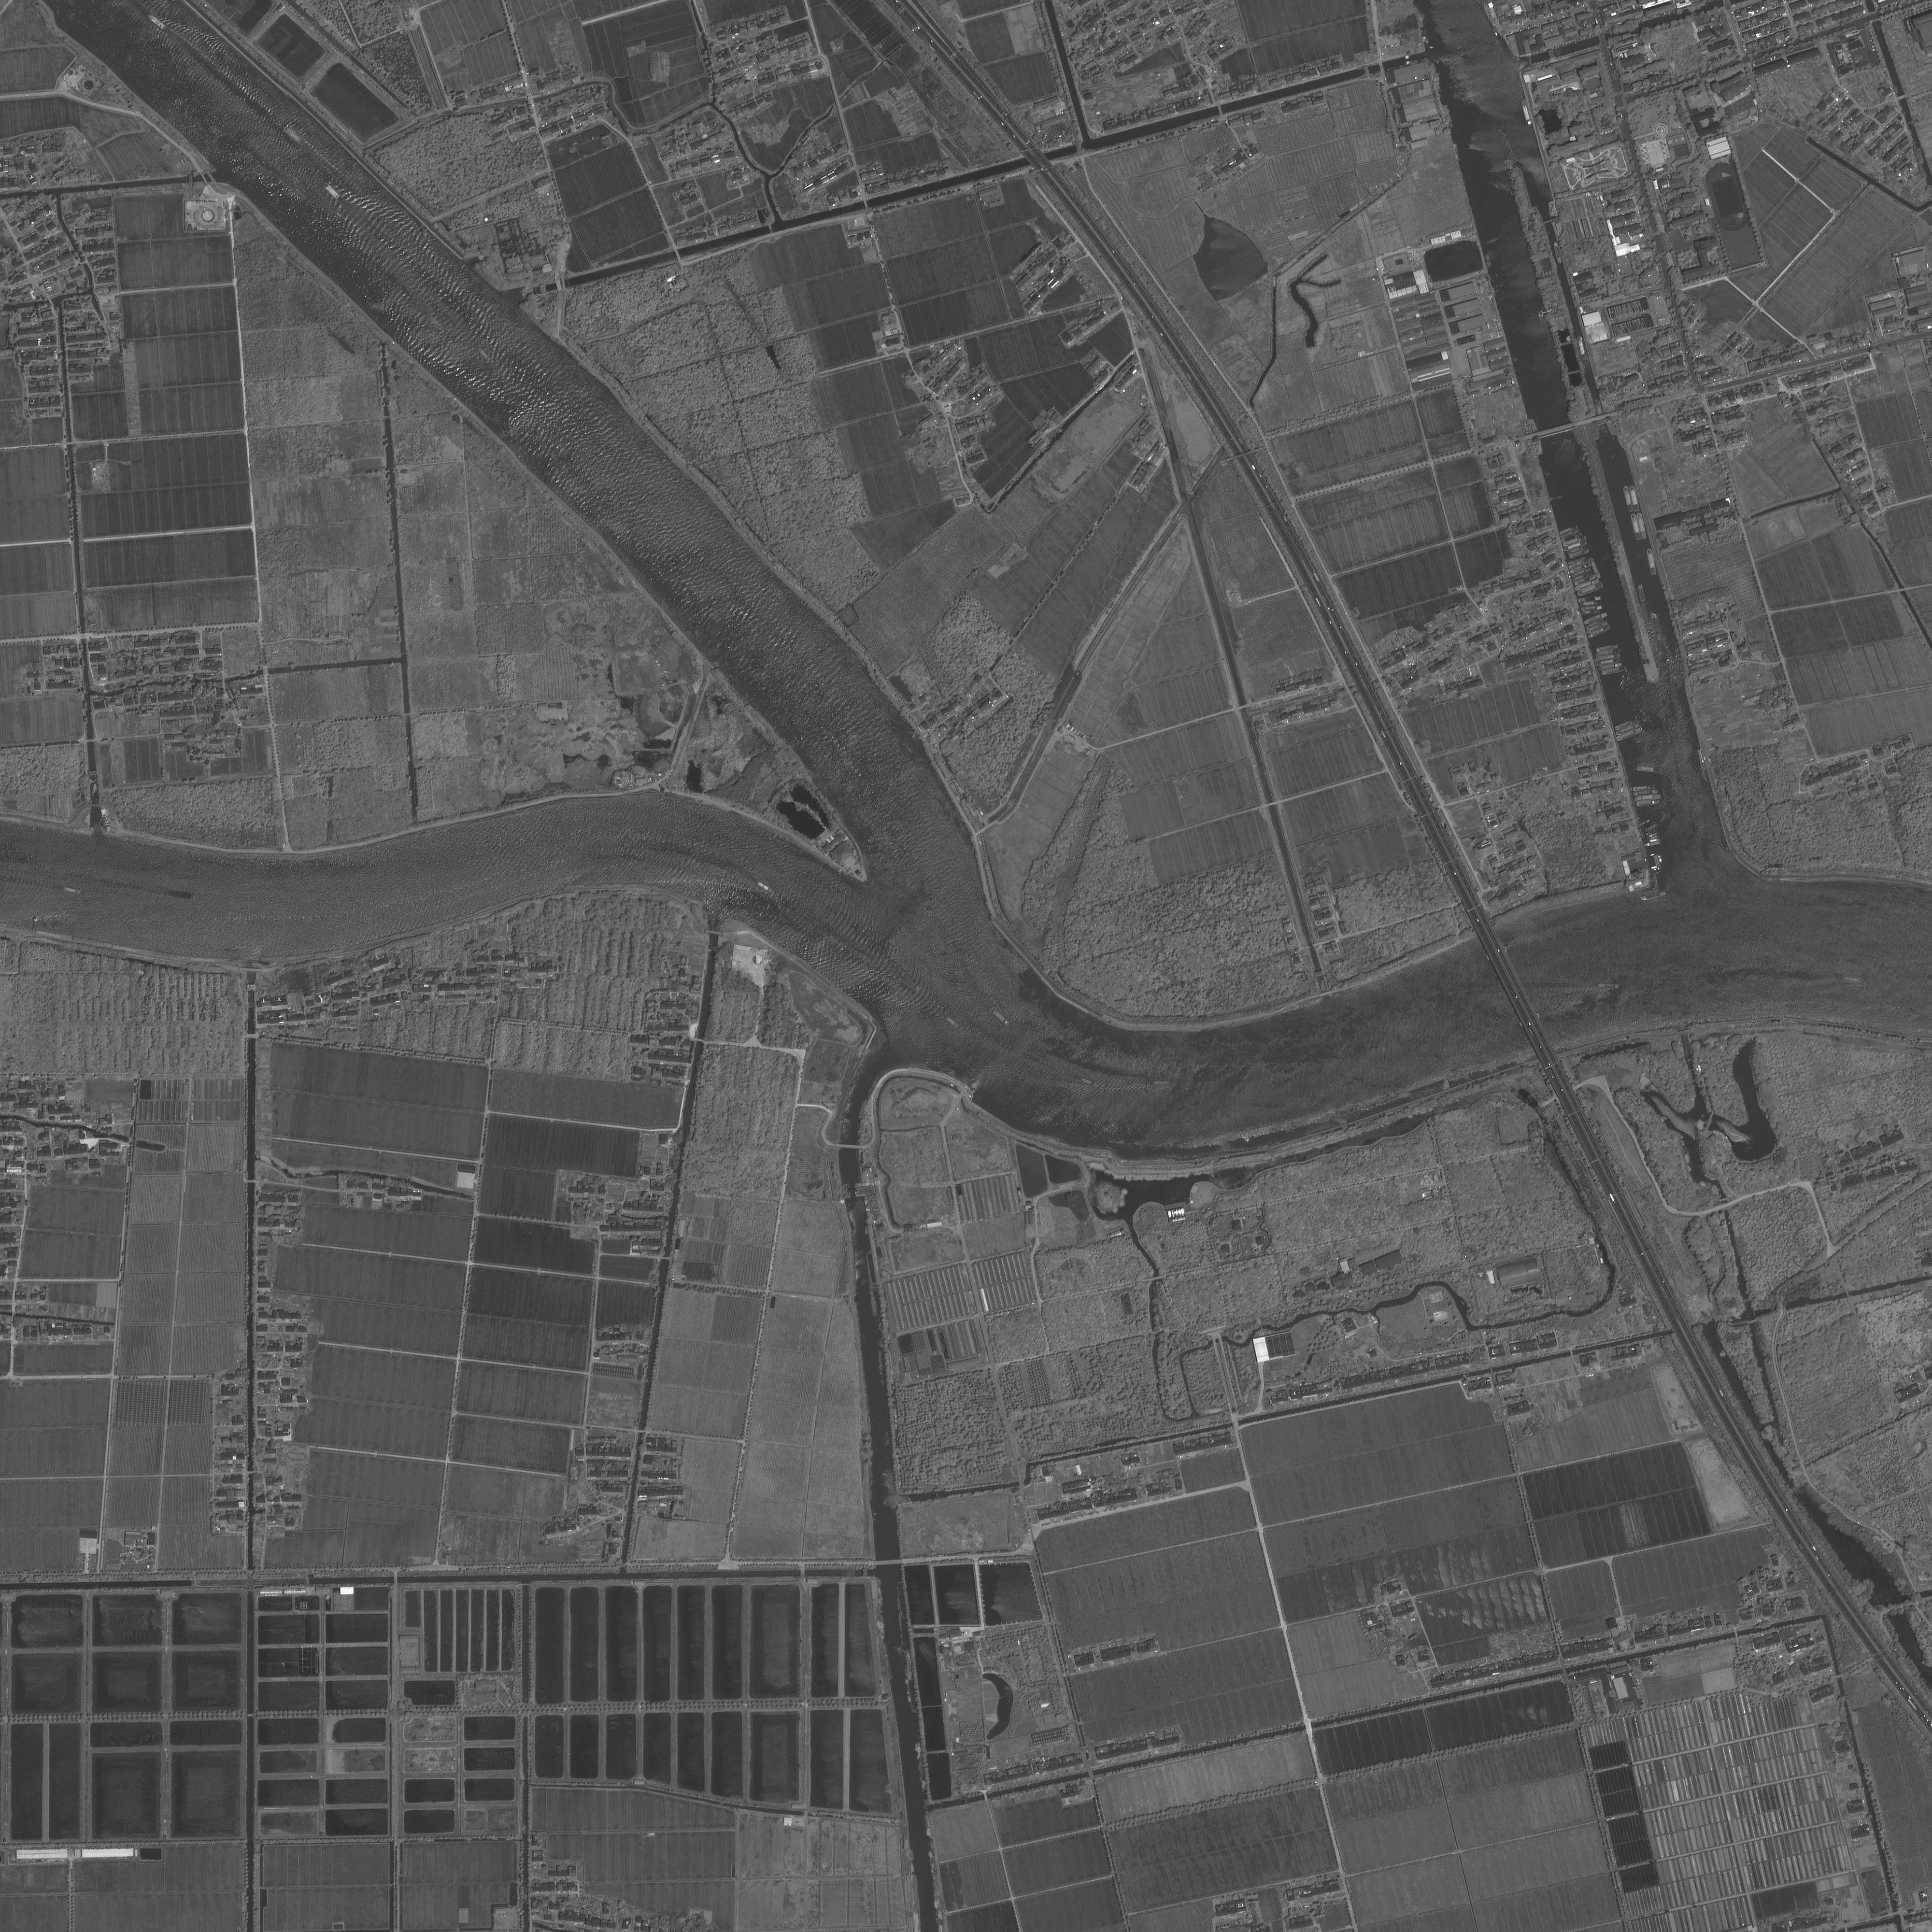ship: (322, 180, 349, 207), (281, 124, 306, 147), (145, 12, 172, 34), (1615, 725, 1645, 743), (989, 1007, 1010, 1028), (425, 311, 446, 333), (1576, 582, 1605, 598), (1615, 722, 1642, 738), (899, 975, 922, 993), (1520, 99, 1534, 127), (1635, 511, 1649, 540), (55, 883, 83, 897), (755, 879, 777, 897), (165, 890, 198, 901), (1072, 1076, 1100, 1088), (1622, 485, 1635, 513), (1629, 513, 1642, 541), (1651, 612, 1663, 640), (1573, 573, 1598, 587), (1583, 612, 1608, 626), (1587, 625, 1612, 639), (941, 1012, 961, 1030), (1587, 557, 1603, 579), (1645, 548, 1658, 575), (1573, 579, 1599, 591), (1640, 890, 1667, 902), (1585, 621, 1608, 635), (1562, 536, 1587, 548), (1629, 485, 1640, 513), (1552, 241, 1564, 264), (1569, 563, 1592, 575), (1564, 540, 1587, 552), (1145, 1079, 1177, 1088), (478, 347, 495, 363), (1637, 764, 1663, 775), (1601, 665, 1628, 676), (1594, 653, 1621, 663), (1594, 648, 1621, 658), (1571, 566, 1592, 579), (1614, 718, 1635, 731), (1637, 584, 1647, 607), (1568, 559, 1591, 570), (1568, 548, 1591, 559), (1560, 533, 1583, 543), (1559, 524, 1578, 536), (1598, 662, 1624, 671), (1573, 571, 1594, 582), (1568, 545, 1589, 556), (1596, 658, 1621, 667), (1568, 556, 1587, 566), (1560, 529, 1580, 540), (1585, 619, 1605, 630), (1596, 644, 1619, 653), (1635, 794, 1663, 801), (1633, 789, 1660, 796), (1596, 982, 1621, 989), (1637, 800, 1661, 807), (1631, 784, 1656, 791), (1578, 596, 1601, 603), (1582, 605, 1603, 612), (1644, 840, 1661, 847), (1645, 828, 1660, 837), (1580, 602, 1603, 607), (1582, 610, 1601, 616), (1647, 837, 1661, 842), (1647, 832, 1658, 839), (1649, 835, 1660, 840)
